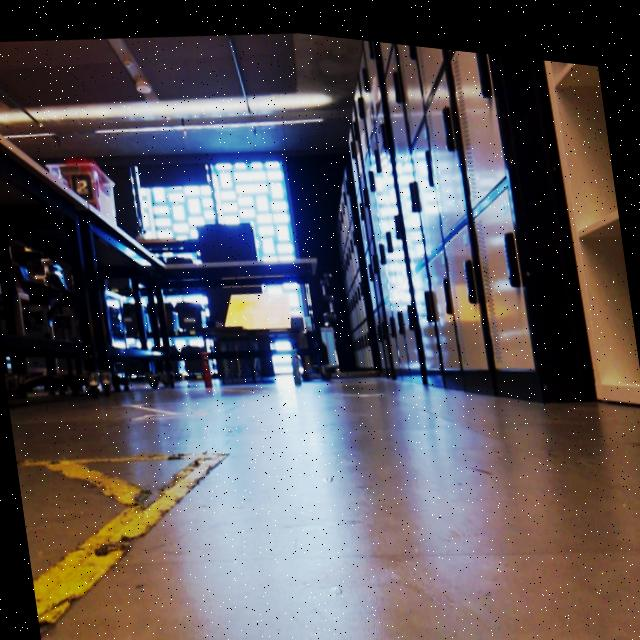greenpringles: (282, 337, 306, 380)
redpringles: (190, 342, 218, 387)
